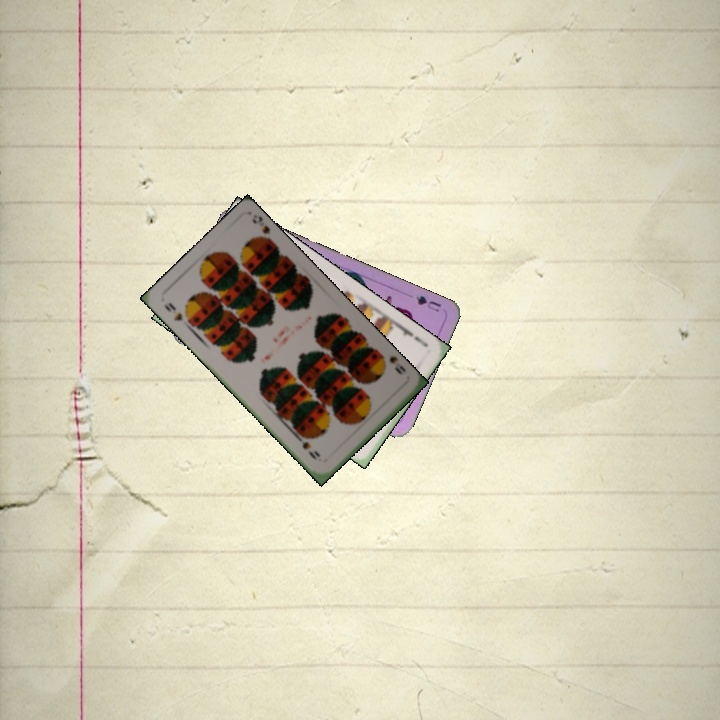E7: (395, 321, 431, 350)
GU: (412, 291, 444, 315)
S9: (377, 350, 405, 377), (160, 298, 186, 323)
